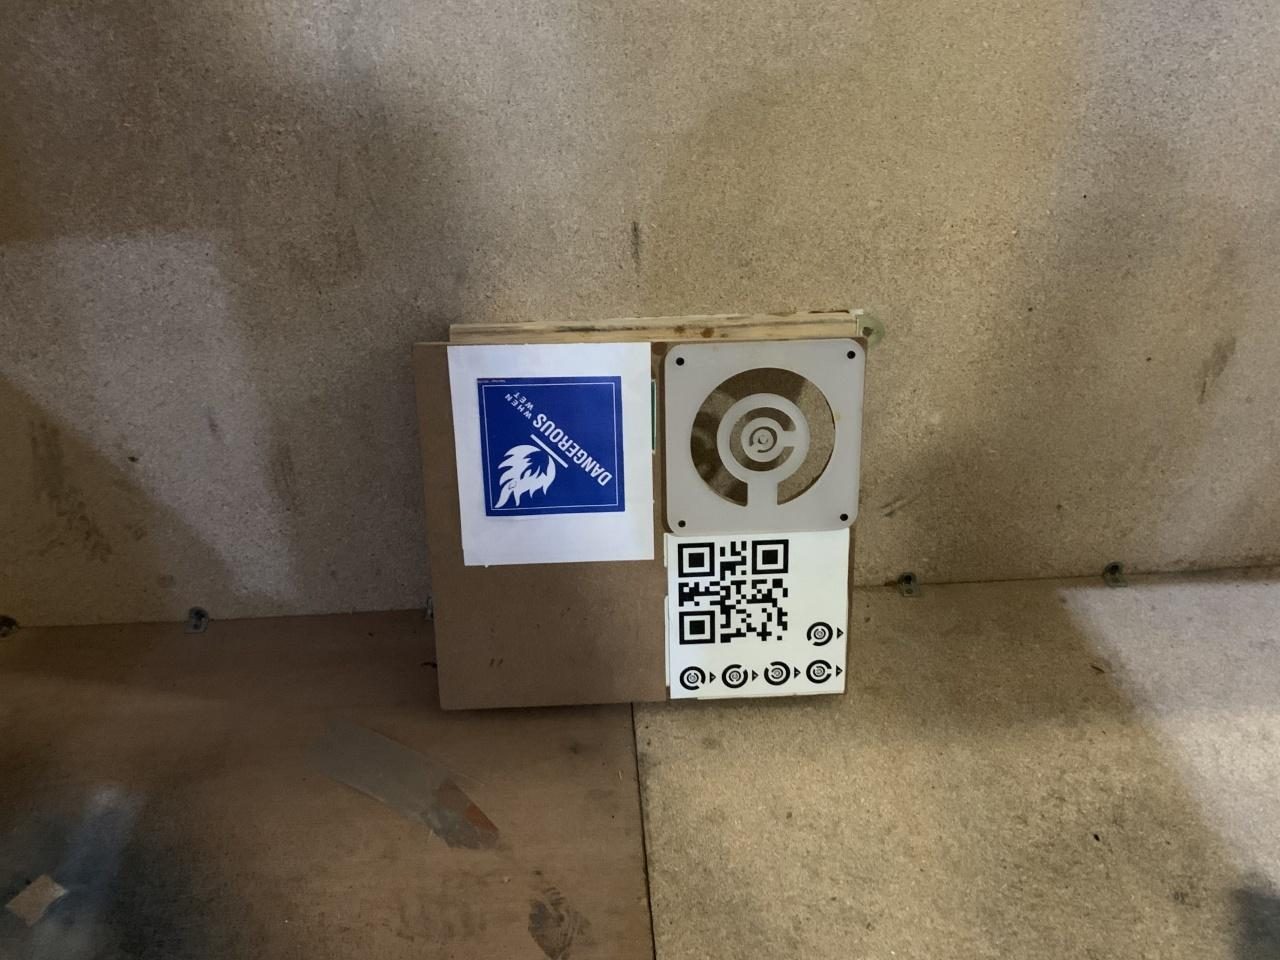dangerous-when-wet: (476, 379, 626, 516)
